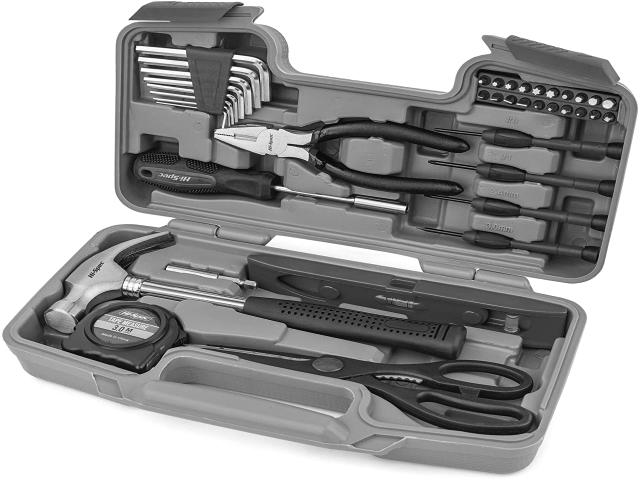Hammer: (45, 232, 466, 359)
Pliers: (214, 120, 470, 195)
Screwdriver: (134, 152, 409, 213), (429, 160, 615, 197), (426, 195, 608, 231), (418, 227, 600, 263), (434, 128, 624, 160)
Tape measure: (61, 301, 186, 374)
